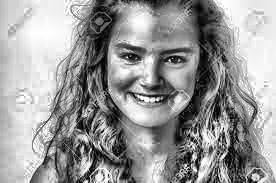happy: (100, 4, 212, 147)
